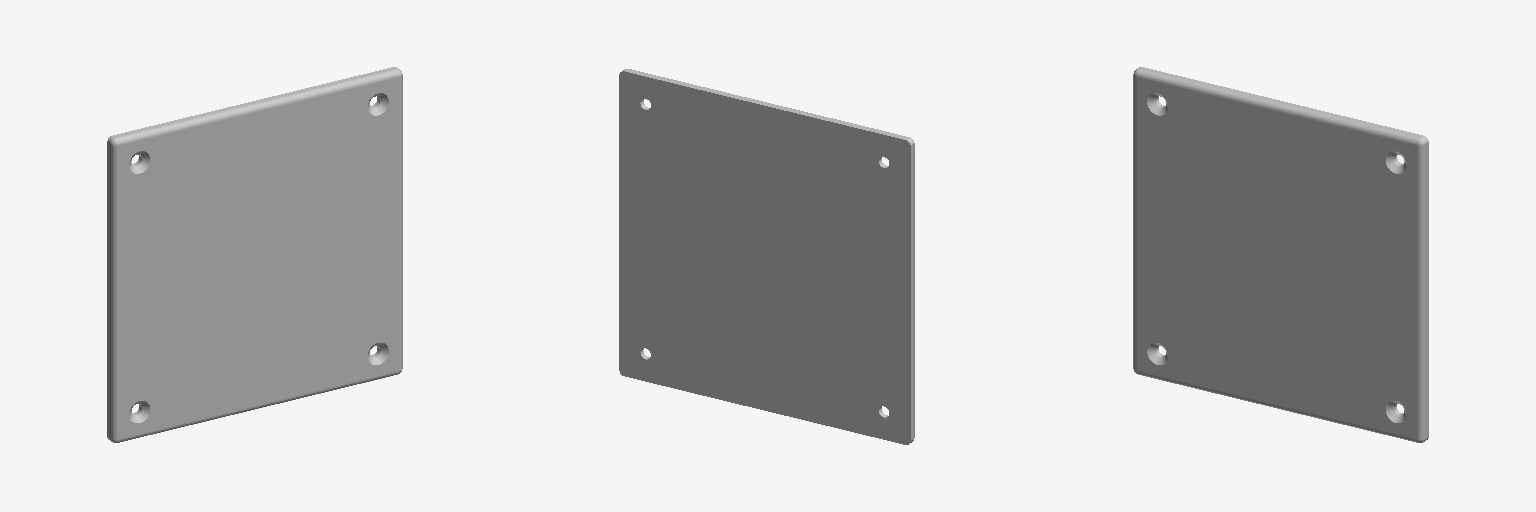
The model's file is case_Lid.obj.
3 renders of one model, left to right at view 1: azimuth 30°, elevation 25°; view 2: azimuth 150°, elevation 25°; view 3: azimuth 330°, elevation 25°, orthographic.
Visible parts, largest first — view 1: Solid1:1; view 2: Solid1:1; view 3: Solid1:1.
Boxes of the visible parts, box(x1,y1,x2,y2) form: Solid1:1: box(107, 67, 402, 442); Solid1:1: box(619, 69, 914, 444); Solid1:1: box(1133, 67, 1428, 442).
Bounding box in the file's own units: 0.11 × 0.11 × 0.004.